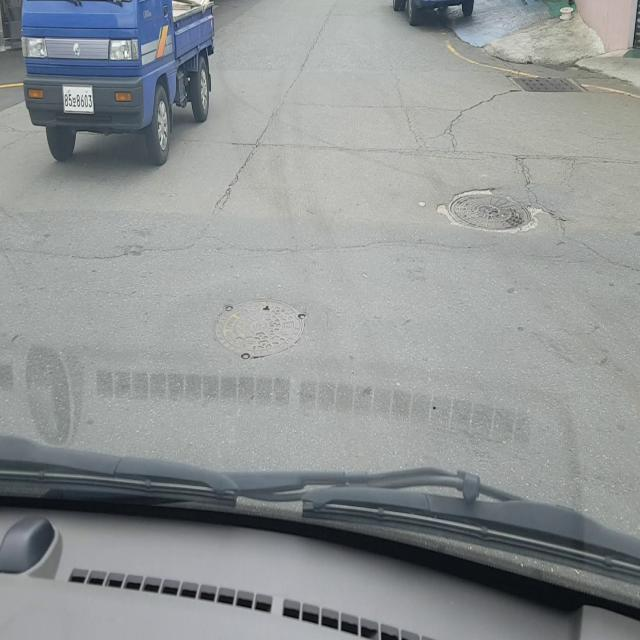Pothole: (435, 185, 545, 235)
